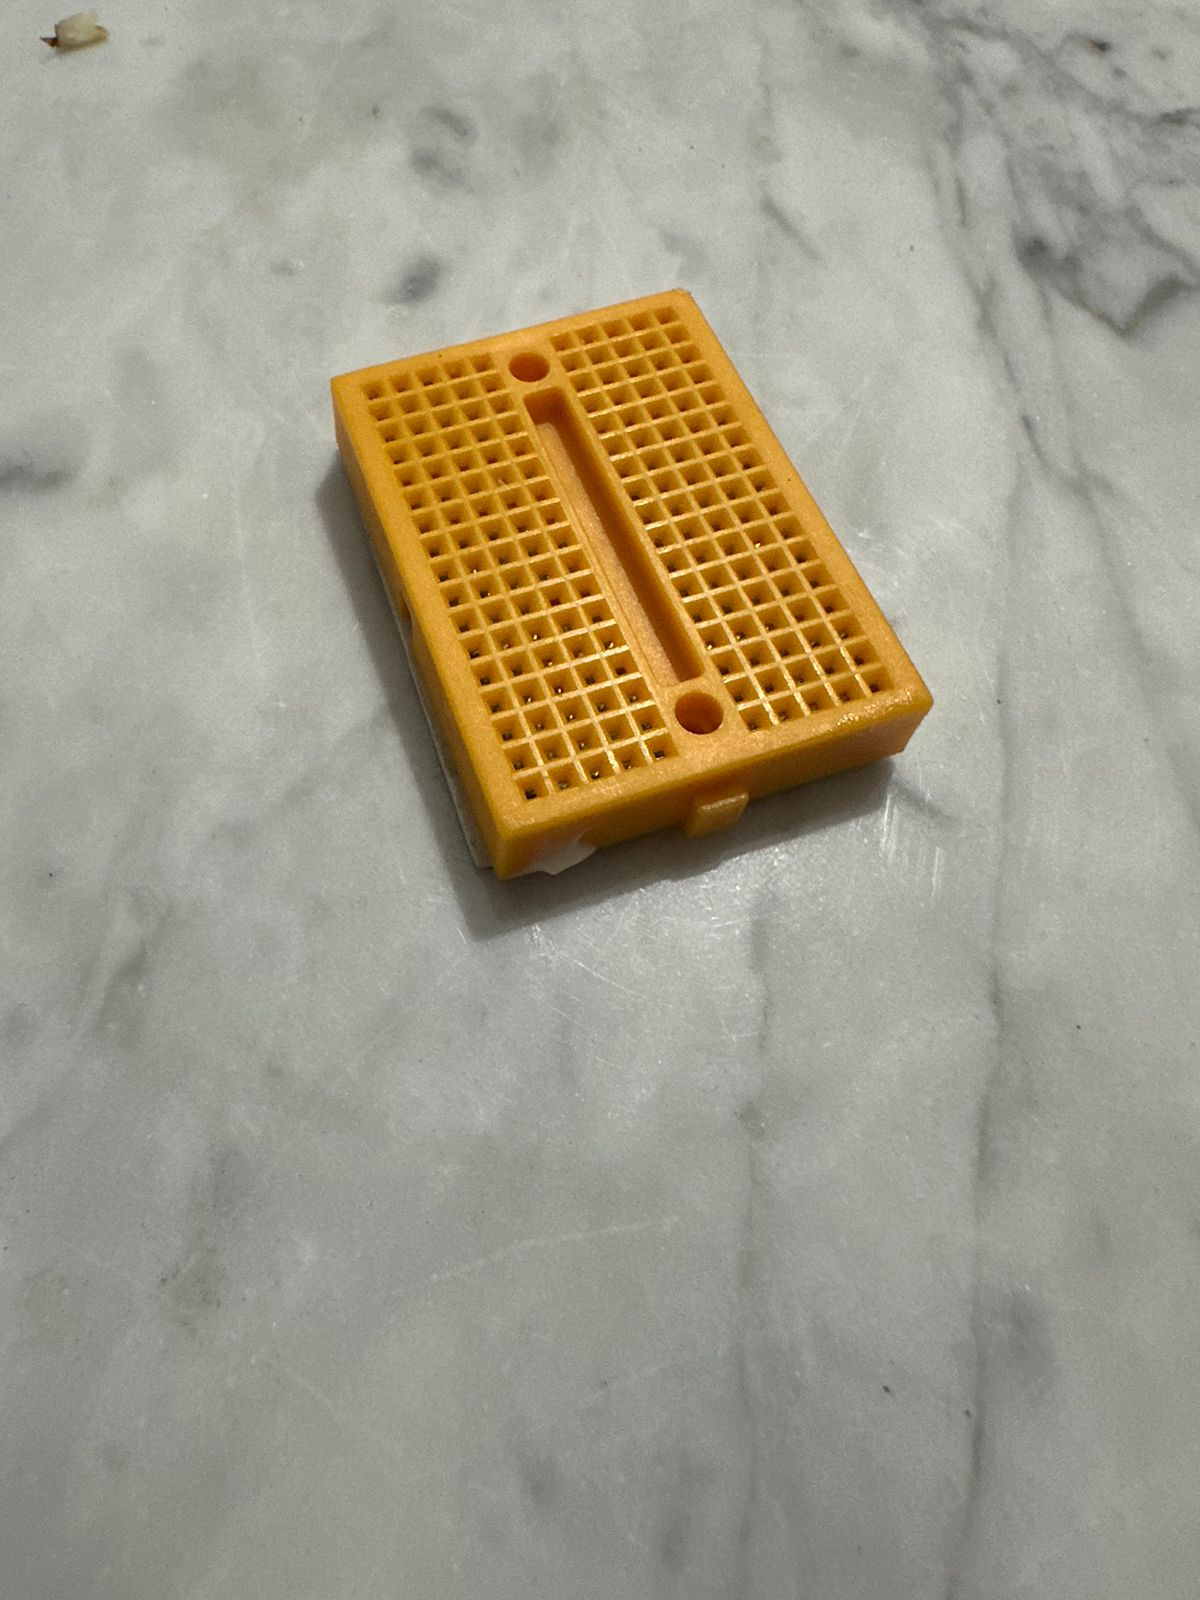breadboard: (326, 289, 937, 882)
